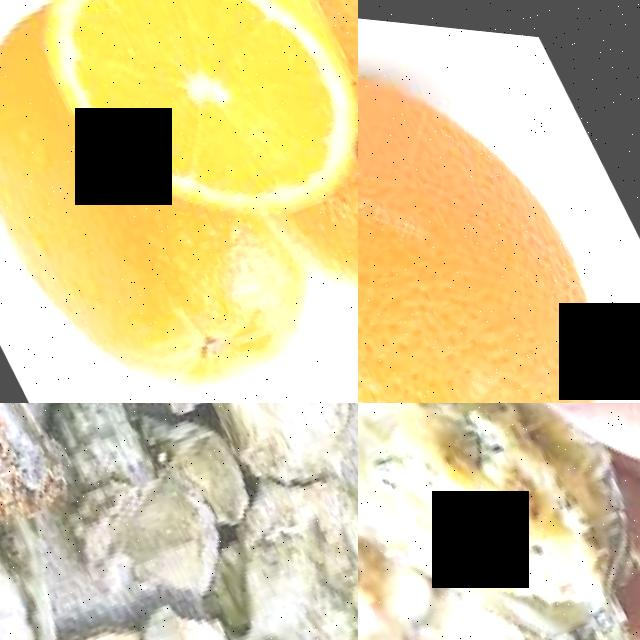orange: (358, 0, 640, 403), (0, 0, 358, 273), (0, 0, 214, 403), (6, 170, 336, 403), (256, 69, 358, 350), (268, 0, 358, 308)
oysters: (358, 403, 640, 640), (178, 443, 358, 640), (161, 403, 358, 488), (0, 479, 99, 640)
